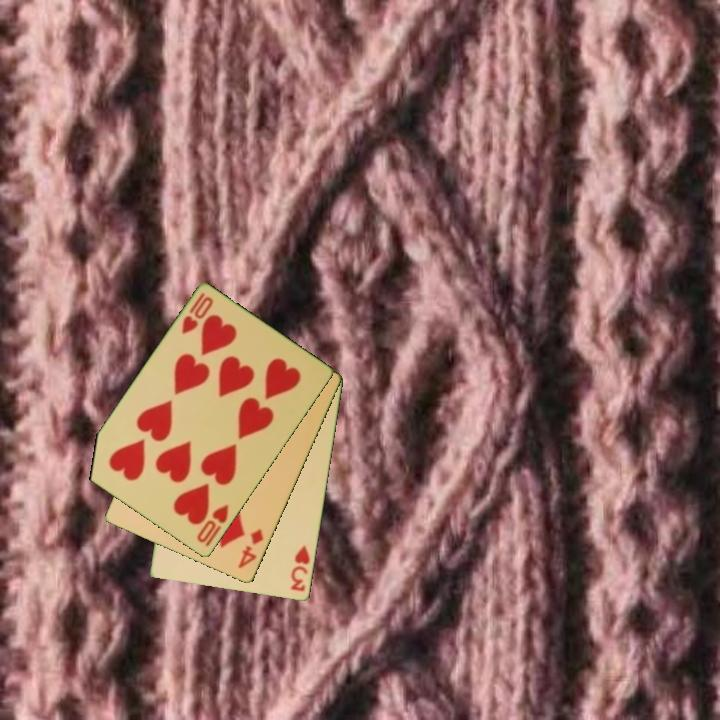10h: (193, 501, 232, 550), (178, 289, 216, 338)
3h: (287, 542, 313, 595)
4d: (234, 525, 267, 571)
